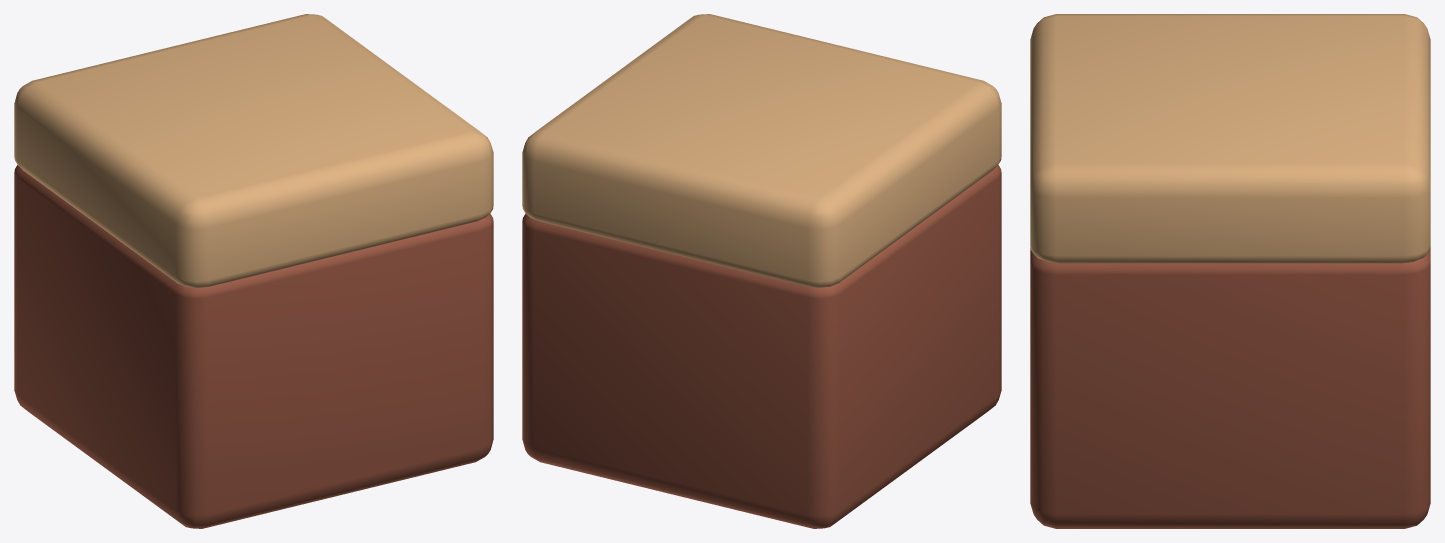
Rendered from tileHigh_desert-col.glb.
The picture shows the model from 3 angles, left to right: view 1: azimuth 30°, elevation 25°; view 2: azimuth 150°, elevation 25°; view 3: azimuth 270°, elevation 25°; orthographic projection. The views are drawn at different scales.
Parts seen in each view (by area): view 1: tileHigh_desert-col; view 2: tileHigh_desert-col; view 3: tileHigh_desert-col.
Boxes of the visible parts, <box> form: tileHigh_desert-col: <box>14,14,493,528</box>; tileHigh_desert-col: <box>522,14,1001,528</box>; tileHigh_desert-col: <box>1030,14,1430,528</box>.
Bounding box in the file's own units: 2 × 2 × 2.
